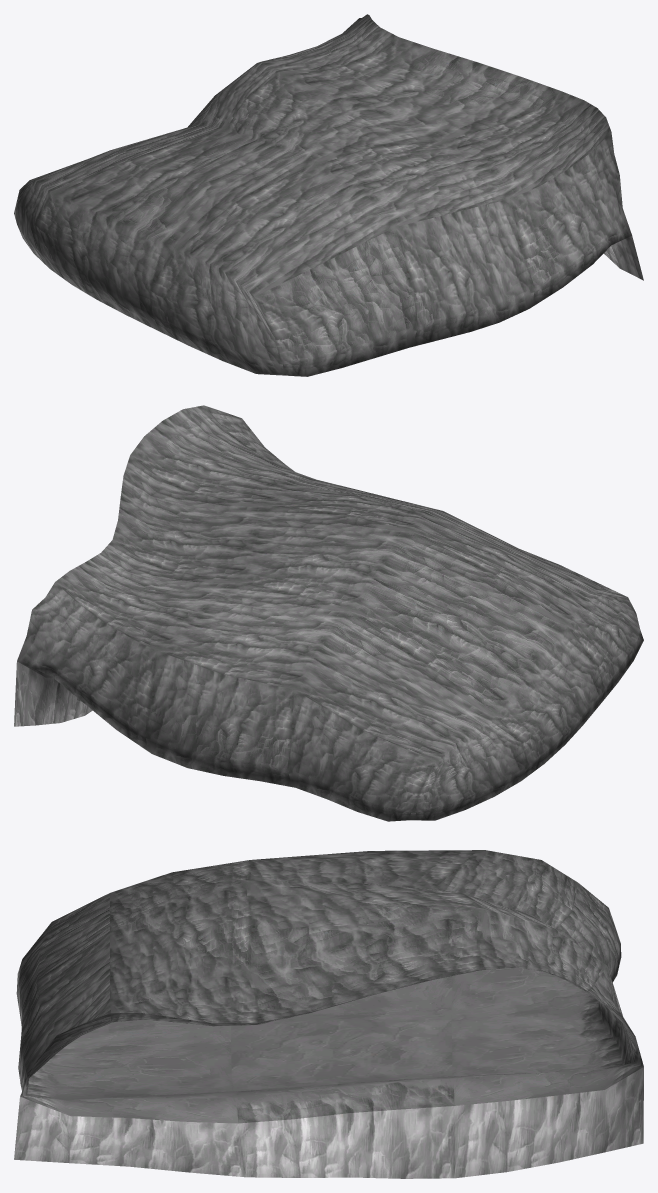
Rendered from SWORDLIGHT20_PS-AREA03_13.fbx.
3 renders of one model, top to bottom at view 1: azimuth 30°, elevation 25°; view 2: azimuth 150°, elevation 25°; view 3: azimuth 270°, elevation 25°, orthographic. The views are drawn at different scales.
Parts seen in each view (by area): view 1: SWORDLIGHT20_PS-AREA03_13; view 2: SWORDLIGHT20_PS-AREA03_13; view 3: SWORDLIGHT20_PS-AREA03_13.
Boxes of the visible parts, left/top/right/bottom form: SWORDLIGHT20_PS-AREA03_13: left=14, top=14, right=643, bottom=376; SWORDLIGHT20_PS-AREA03_13: left=14, top=405, right=643, bottom=821; SWORDLIGHT20_PS-AREA03_13: left=14, top=850, right=643, bottom=1178.
Size of the model in its own units: 201451 by 68813 by 197057.
Materials: 6 (6 with a texture image).
